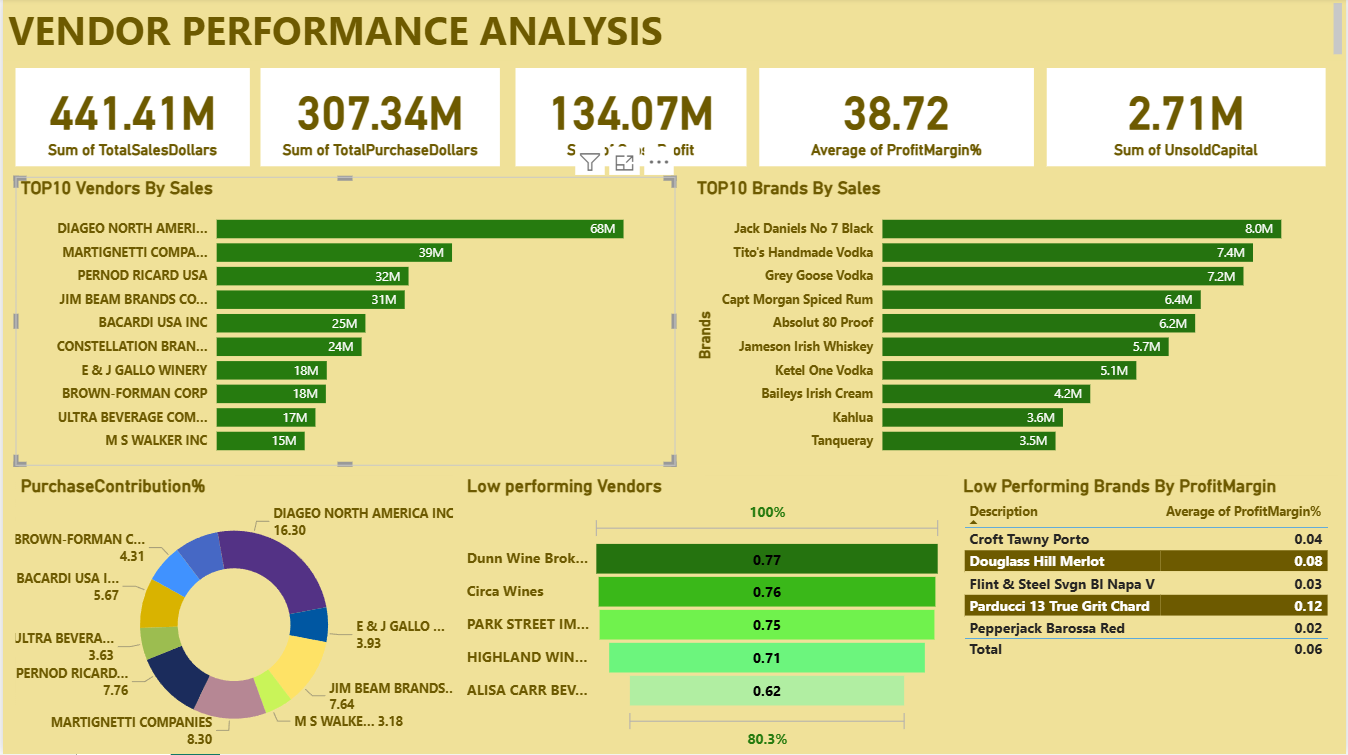

The page's visual inventory and layout, read from the dashboard file:
{"tool":"powerbi","page":{"name":"Page 1","canvas":[1280,720],"ordinal":0},"visuals":[{"type":"card","fields":{"Values":["Sum(vendor_sales_summary.GrossProfit)"]},"box":[487.5,67.2,219.7,93.7],"z":0},{"type":"card","fields":{"Values":["Sum(vendor_sales_summary.TotalSalesDollars)"]},"box":[12,67.2,223.3,93.7],"z":1000},{"type":"card","fields":{"Values":["Sum(vendor_sales_summary.TotalPurchaseDollars)"]},"box":[245,67.2,228.1,93.7],"z":2000},{"type":"textbox","box":[0,0,1280,59.1],"z":3000},{"type":"card","fields":{"Values":["Avg(vendor_sales_summary.ProfitMargin%)"]},"box":[720.5,67.2,261.8,93.7],"z":4000},{"type":"card","fields":{"Values":["Sum(vendor_sales_summary.UnsoldCapital)"]},"box":[994.2,67.2,265.4,93.7],"z":5000},{"type":"donutChart","title":"PurchaseContribution% ","fields":{"Category":["vendor_purchase_contribution.VendorName"],"Y":["Sum(vendor_purchase_contribution.PurchaseContribution%)"]},"box":[12,455.1,416.7,265.4],"z":6000},{"type":"barChart","title":"TOP10 Vendors By Sales","fields":{"Category":["vendor_sales_summary.VendorName"],"Y":["Sum(vendor_sales_summary.TotalSalesDollars)"]},"box":[12,170.5,628,275],"z":6001},{"type":"barChart","title":"TOP10 Brands By Sales","fields":{"Y":["Sum(vendor_sales_summary.TotalSalesDollars)"],"Category":["vendor_sales_summary.Description"]},"box":[655.6,170.5,604,275],"z":6002},{"type":"funnel","title":"Low performing Vendors","fields":{"Category":["LowTurnoverVendor.VendorName"],"Y":["Avg(LowTurnoverVendor.AvgStockTurnover)"]},"box":[437.1,455.1,463.5,265.4],"z":6003},{"type":"tableEx","title":"Low Performing Brands By ProfitMargin","fields":{"Values":["brand_performance.Description","Avg(brand_performance.ProfitMargin%)"]},"box":[909,455.1,361.4,265.4],"z":6004}]}

Visuals, with their boxes in screenshot pixels (x1, y1, x2, y2), scaled from the page's 1280x720 canvas onto the 1348x755 screenshot:
card - Sum(vendor_sales_summary.GrossProfit): {"x1": 513, "y1": 70, "x2": 745, "y2": 169}
card - Sum(vendor_sales_summary.TotalSalesDollars): {"x1": 13, "y1": 70, "x2": 248, "y2": 169}
card - Sum(vendor_sales_summary.TotalPurchaseDollars): {"x1": 258, "y1": 70, "x2": 498, "y2": 169}
textbox: {"x1": 0, "y1": 0, "x2": 1347, "y2": 62}
card - Avg(vendor_sales_summary.ProfitMargin%): {"x1": 759, "y1": 70, "x2": 1034, "y2": 169}
card - Sum(vendor_sales_summary.UnsoldCapital): {"x1": 1047, "y1": 70, "x2": 1327, "y2": 169}
"PurchaseContribution% " donutChart: {"x1": 13, "y1": 477, "x2": 451, "y2": 754}
"TOP10 Vendors By Sales" barChart: {"x1": 13, "y1": 179, "x2": 674, "y2": 467}
"TOP10 Brands By Sales" barChart: {"x1": 690, "y1": 179, "x2": 1327, "y2": 467}
"Low performing Vendors" funnel: {"x1": 460, "y1": 477, "x2": 948, "y2": 754}
"Low Performing Brands By ProfitMargin" tableEx: {"x1": 957, "y1": 477, "x2": 1338, "y2": 754}
